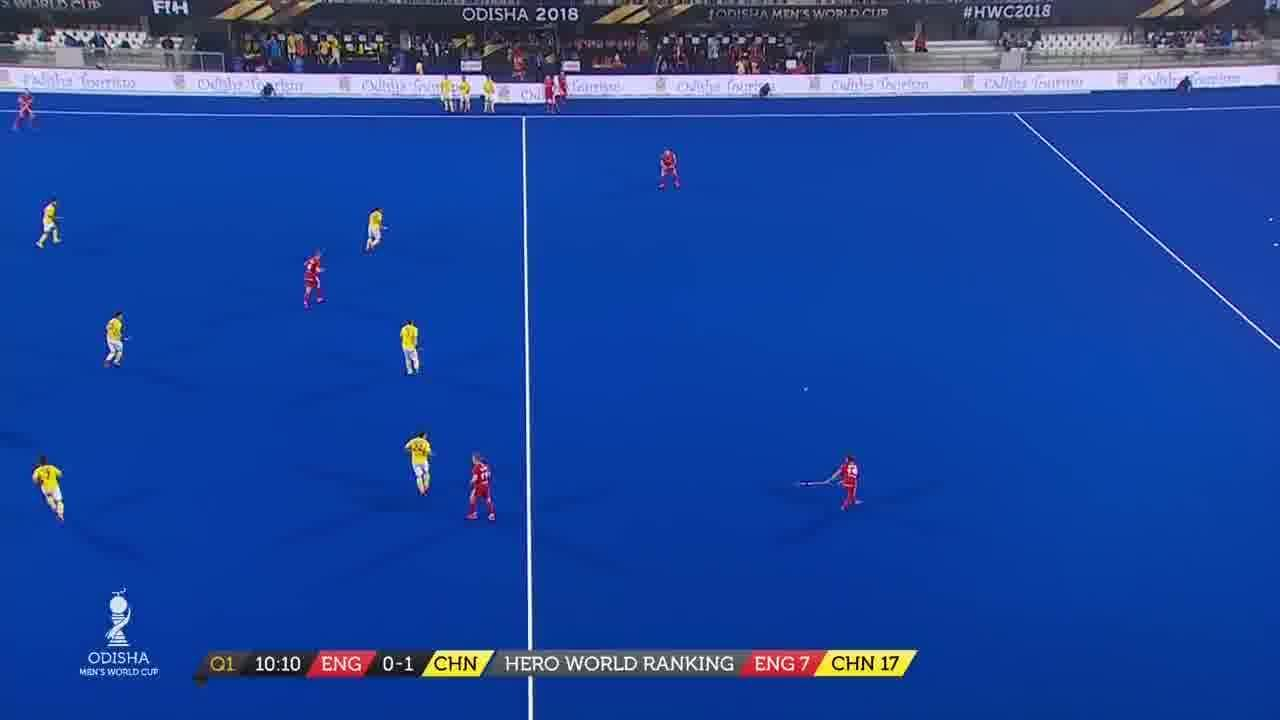ball: (796, 382, 814, 398)
